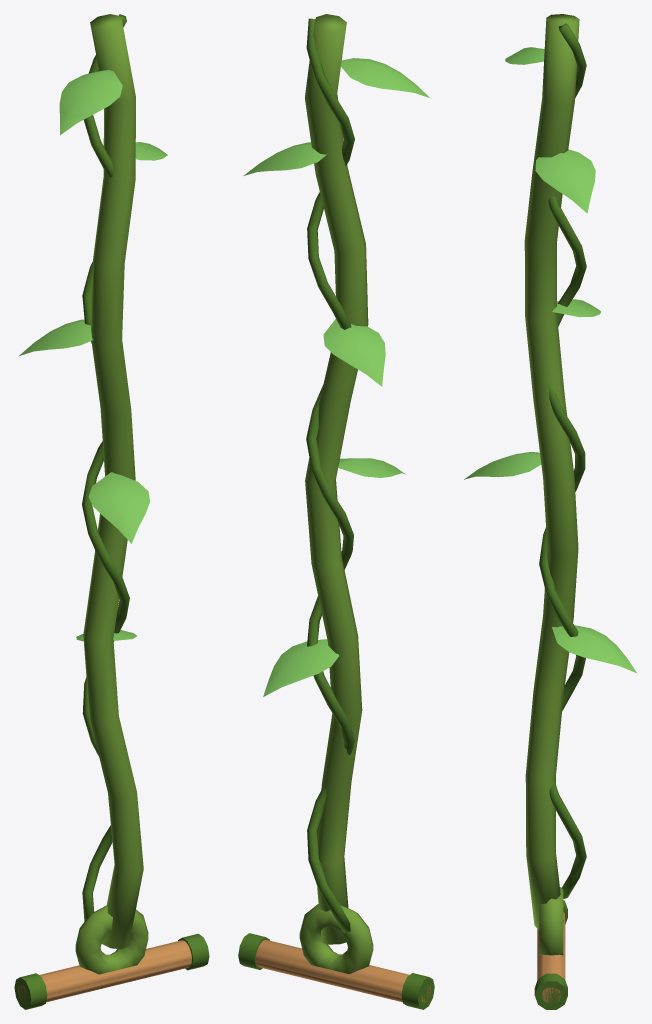
File: cipo.glb
3 views of the same model, side by side, from view 1: azimuth 30°, elevation 25°; view 2: azimuth 150°, elevation 25°; view 3: azimuth 270°, elevation 25° (orthographic).
Parts seen in each view (by area): view 1: cipo; view 2: cipo; view 3: cipo.
Boxes of the visible parts, box(x1,y1,x2,y2) form: cipo: box(14, 14, 209, 1009); cipo: box(238, 14, 434, 1009); cipo: box(464, 14, 636, 1009).
Bounding box in the file's own units: 0.44 × 2.27 × 0.3767.
